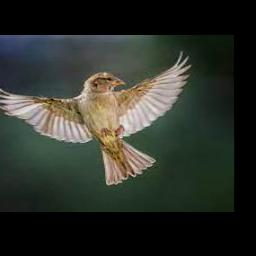Sparrow: (0, 51, 192, 185)
